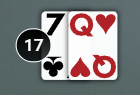7: (40, 9, 70, 40)
q: (64, 7, 97, 41)
